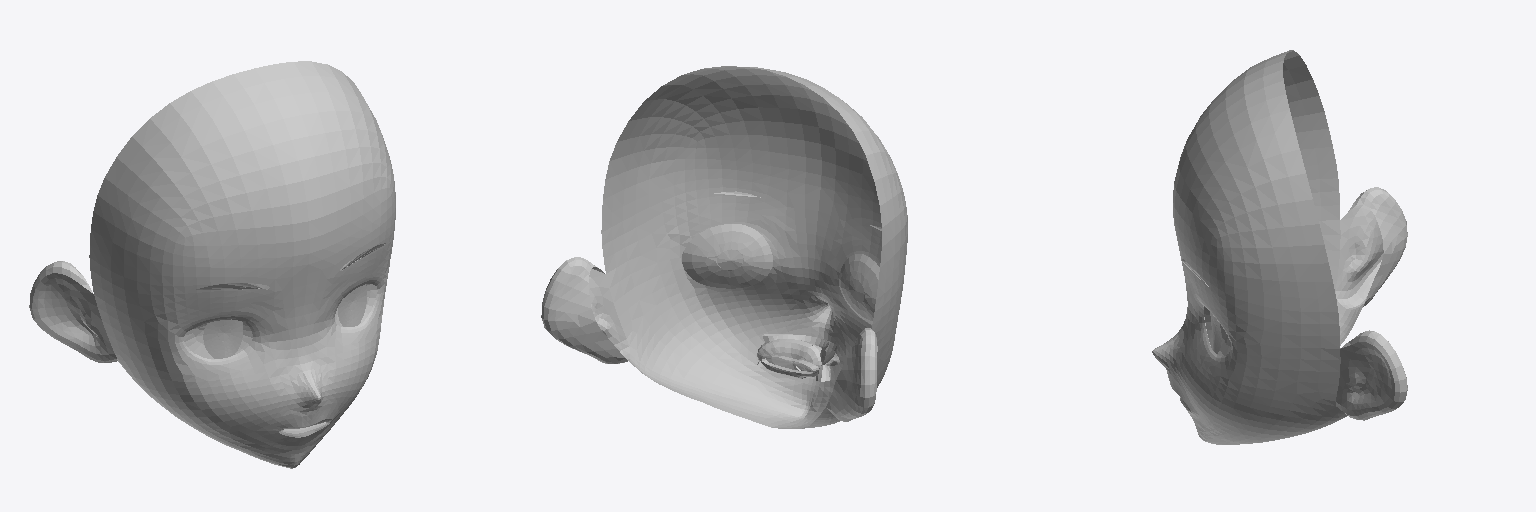
The model's file is mouthStretchLeft.obj.
The picture shows the model from 3 angles: view 1: azimuth 30°, elevation 25°; view 2: azimuth 150°, elevation 25°; view 3: azimuth 270°, elevation 25°; orthographic projection.
Visible parts, largest first — view 1: Face; view 2: Face; view 3: Face.
Boxes of the visible parts, x1,y1,x2,y2 form: Face: [29, 61, 395, 468]; Face: [541, 66, 907, 428]; Face: [1152, 50, 1407, 444].
Size of the model in its own units: 0.2176 by 0.2333 by 0.1449.